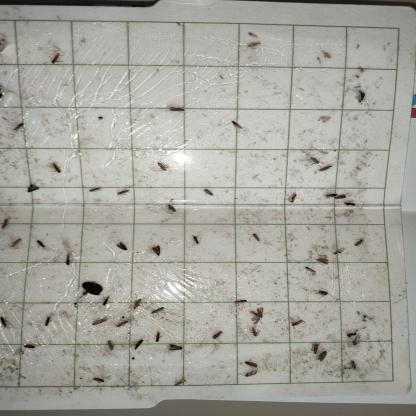prays_oleae: (286, 309, 305, 335), (296, 261, 318, 283), (170, 94, 186, 122), (227, 112, 247, 134), (316, 156, 336, 178), (46, 46, 63, 70), (86, 177, 102, 201), (90, 367, 110, 386), (167, 339, 188, 357), (190, 227, 203, 255), (90, 310, 110, 328), (242, 351, 260, 371), (243, 368, 260, 388), (50, 156, 62, 184), (204, 180, 215, 210), (331, 237, 345, 260), (352, 232, 368, 252), (314, 348, 334, 364), (114, 182, 129, 203), (288, 186, 300, 212), (8, 234, 23, 254), (340, 199, 360, 214), (314, 249, 328, 270), (11, 117, 28, 134), (129, 292, 141, 316), (332, 189, 347, 208), (248, 321, 263, 340), (341, 324, 360, 339), (115, 312, 130, 331), (152, 327, 164, 350), (308, 149, 320, 171), (156, 157, 168, 178), (312, 290, 336, 300), (345, 358, 360, 374), (22, 338, 36, 354), (105, 336, 116, 356), (310, 338, 321, 358), (0, 310, 9, 334), (164, 202, 180, 215), (150, 306, 166, 319), (323, 186, 336, 202), (0, 216, 12, 233), (101, 290, 112, 305), (134, 338, 143, 355)
